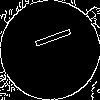I: (25, 25, 73, 54)
